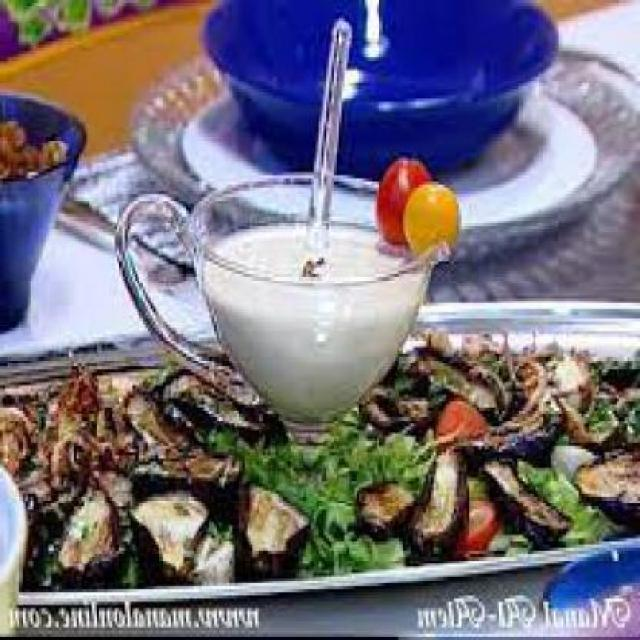hummus: (210, 178, 438, 427)
